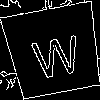W: (28, 26, 84, 80)
